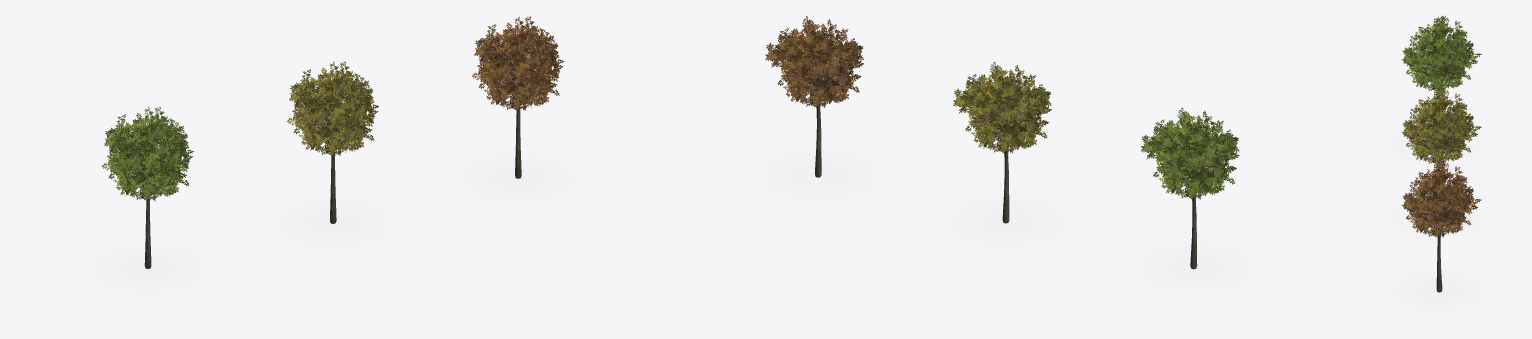
Rendered from low_poly_tree_b.glb.
3 views of the same model, side by side, from view 1: azimuth 30°, elevation 25°; view 2: azimuth 150°, elevation 25°; view 3: azimuth 270°, elevation 25° (orthographic). The views are drawn at different scales.
Parts seen in each view (by area): view 1: tak002_M_red_0, tak001_M_greenRed_0, tak_M_leaf_0, Plane001, Plane002, Plane003, tak002_M_bark_0, tak_M_bark_0, tak001_M_bark_0; view 2: tak_M_leaf_0, tak002_M_red_0, tak001_M_greenRed_0, Plane001, Plane002, Plane003, tak001_M_bark_0, tak002_M_bark_0, tak_M_bark_0; view 3: tak001_M_greenRed_0, tak002_M_red_0, tak_M_leaf_0, Plane003, tak002_M_bark_0, Plane002, Plane001, tak_M_bark_0, tak001_M_bark_0.
Boxes of the visible parts, x1,y1,x2,y2 form: tak002_M_red_0: [471, 16, 564, 110]; tak001_M_greenRed_0: [286, 61, 378, 155]; tak_M_leaf_0: [101, 106, 193, 201]; Plane001: [102, 249, 194, 287]; Plane002: [287, 204, 379, 242]; Plane003: [472, 159, 564, 197]; tak002_M_bark_0: [483, 37, 549, 178]; tak_M_bark_0: [112, 128, 176, 268]; tak001_M_bark_0: [297, 83, 364, 223]; tak_M_leaf_0: [1141, 108, 1239, 199]; tak002_M_red_0: [765, 16, 863, 107]; tak001_M_greenRed_0: [953, 62, 1051, 153]; Plane001: [1149, 247, 1241, 286]; Plane002: [961, 202, 1054, 240]; Plane003: [773, 156, 866, 195]; tak001_M_bark_0: [972, 91, 1034, 223]; tak002_M_bark_0: [784, 53, 846, 177]; tak_M_bark_0: [1159, 137, 1222, 269]; tak001_M_greenRed_0: [1402, 88, 1481, 163]; tak002_M_red_0: [1402, 161, 1481, 237]; tak_M_leaf_0: [1402, 15, 1481, 91]; Plane003: [1401, 275, 1474, 306]; tak002_M_bark_0: [1413, 179, 1471, 292]; Plane002: [1401, 210, 1474, 231]; Plane001: [1401, 137, 1474, 160]; tak_M_bark_0: [1413, 33, 1471, 116]; tak001_M_bark_0: [1414, 106, 1471, 189].
Size of the model in its own units: 15.43 by 4.15 by 4.87.
5 materials, 5 textured.
